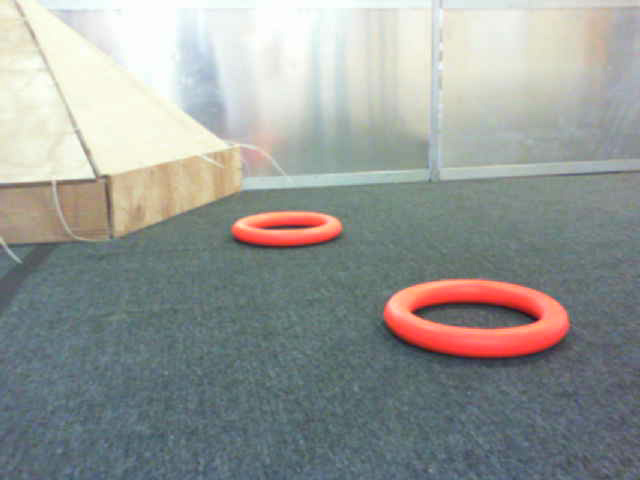Note: (389, 286, 573, 363), (240, 215, 347, 249)
